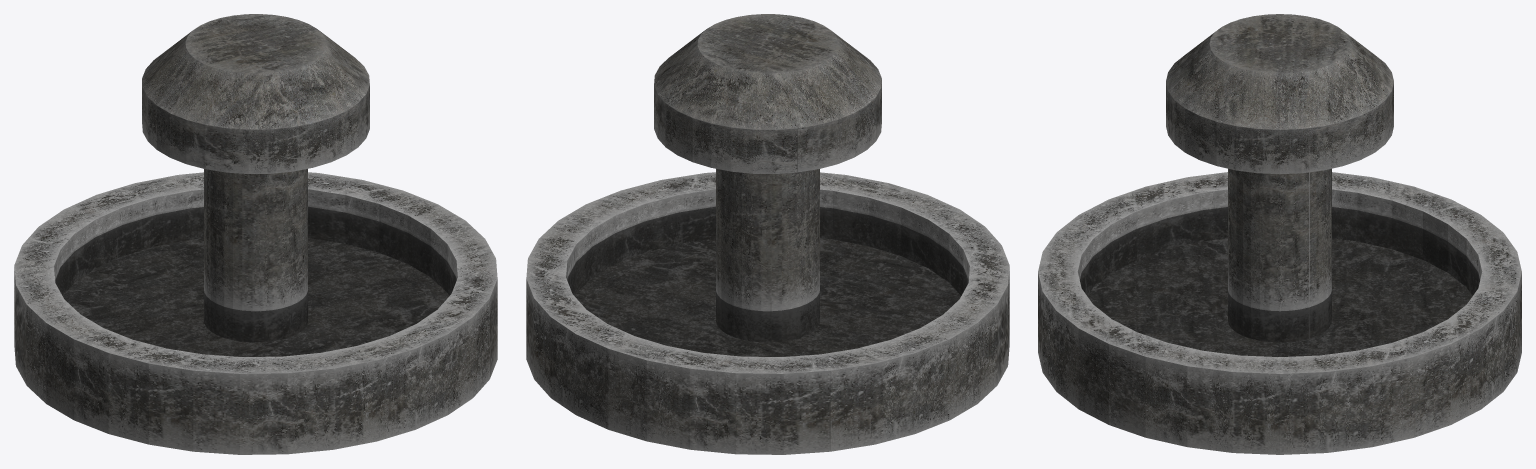
Rendered from fountain.obj.
3 views of the same model, side by side, from view 1: azimuth 30°, elevation 25°; view 2: azimuth 150°, elevation 25°; view 3: azimuth 270°, elevation 25° (orthographic).
Parts seen in each view (by area): view 1: fountain, water; view 2: fountain, water; view 3: fountain, water.
Boxes of the visible parts, x1,y1,x2,y2 form: fountain: (14, 14, 497, 454); water: (55, 206, 456, 356); fountain: (526, 14, 1009, 454); water: (567, 206, 968, 356); fountain: (1038, 14, 1521, 454); water: (1080, 207, 1479, 356).
Bounding box in the file's own units: 40 × 28.17 × 40.
Materials: 2 (1 with a texture image).
